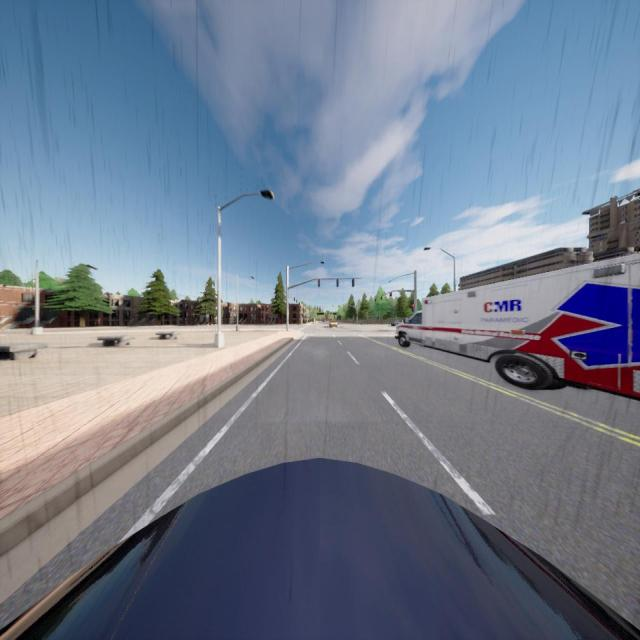Pedestrian: (314, 318, 316, 325)
Vehicle: (1, 454, 640, 640), (396, 253, 640, 397), (329, 321, 338, 328), (391, 319, 398, 326)
traffic_light: (412, 299, 414, 312), (318, 279, 320, 287), (336, 278, 338, 286), (352, 278, 354, 286), (381, 296, 382, 300), (390, 292, 391, 296), (294, 297, 295, 301), (296, 300, 298, 302), (375, 298, 376, 301)
